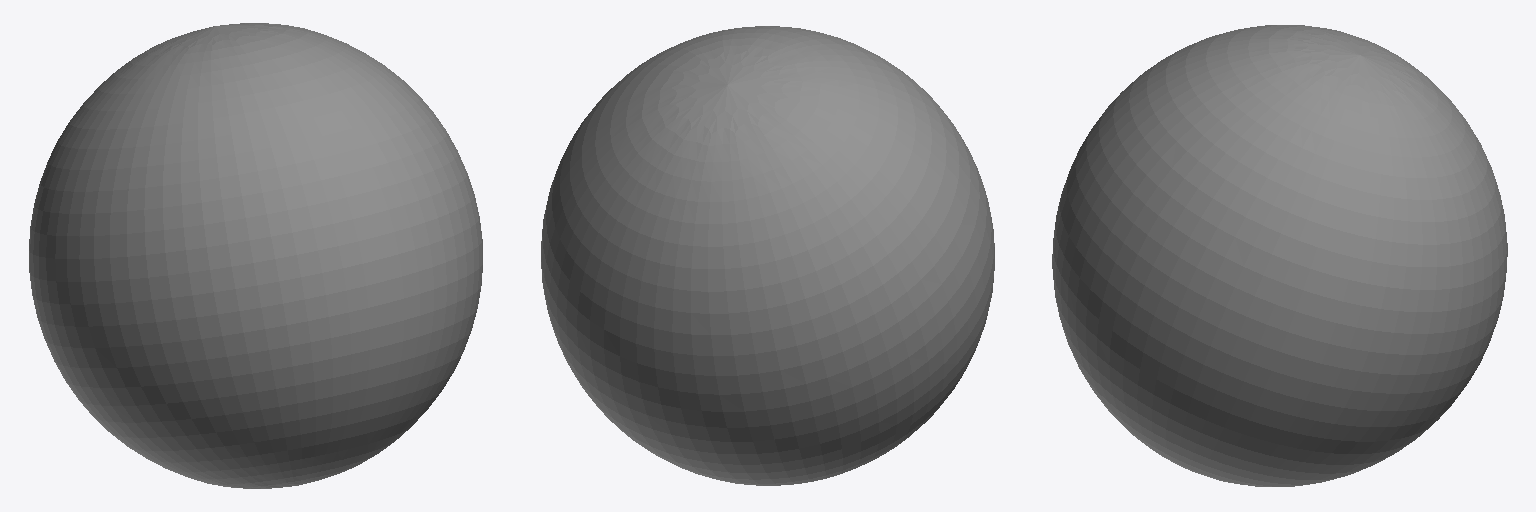
File: ball10.obj
3 views of the same model, side by side, from view 1: azimuth 30°, elevation 25°; view 2: azimuth 150°, elevation 25°; view 3: azimuth 270°, elevation 25° (orthographic).
Parts seen in each view (by area): view 1: Sphere01.006; view 2: Sphere01.006; view 3: Sphere01.006.
Part boxes in pixels (x1,y1,x2,y2): Sphere01.006: (29, 23, 482, 488); Sphere01.006: (541, 26, 994, 485); Sphere01.006: (1052, 25, 1507, 486).
Size of the model in its own units: 5.45 by 5.58 by 5.46.